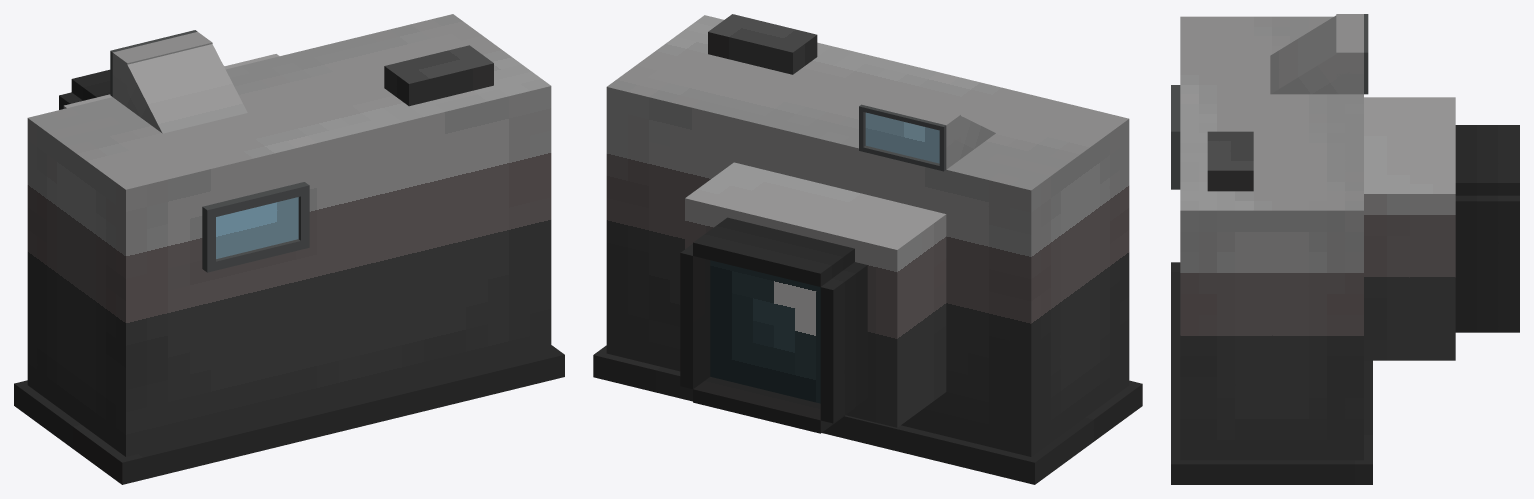
The model's file is simple_camera_model.glb.
3 renders of one model, left to right at view 1: azimuth 30°, elevation 25°; view 2: azimuth 150°, elevation 25°; view 3: azimuth 270°, elevation 25°, orthographic. The views are drawn at different scales.
Visible parts, largest first — view 1: cube_13, cube_14, cube_7, cube_0, cube_1, cube_6, cube_2, cube_3, cube_16, cube_4, cube_5; view 2: cube_13, cube_12, cube_20, cube_14, cube_19, cube_16, cube_0, cube_6, cube_18, cube_17, cube_7, cube_8 (+1 smaller); view 3: cube_13, cube_12, cube_18, cube_14, cube_16, cube_7, cube_0, cube_6, cube_5, cube_17, cube_2.
Boxes of the visible parts, x1,y1,x2,y2 form: cube_13: [27, 14, 551, 456]; cube_14: [14, 345, 564, 484]; cube_7: [114, 44, 247, 133]; cube_0: [384, 45, 493, 106]; cube_1: [216, 197, 298, 258]; cube_6: [112, 32, 212, 107]; cube_2: [211, 184, 300, 216]; cube_3: [216, 239, 300, 270]; cube_16: [71, 69, 110, 100]; cube_4: [202, 204, 215, 272]; cube_5: [296, 182, 309, 249]; cube_13: [606, 15, 1129, 456]; cube_12: [685, 162, 946, 427]; cube_20: [710, 260, 820, 403]; cube_14: [593, 345, 1142, 484]; cube_19: [820, 262, 867, 423]; cube_16: [693, 217, 854, 286]; cube_0: [708, 14, 817, 74]; cube_6: [862, 94, 960, 169]; cube_18: [680, 244, 710, 388]; cube_17: [693, 377, 854, 433]; cube_7: [947, 116, 995, 165]; cube_8: [859, 104, 946, 131]; cube_13: [1180, 16, 1363, 460]; cube_12: [1364, 97, 1455, 360]; cube_18: [1455, 195, 1519, 326]; cube_14: [1171, 262, 1372, 484]; cube_16: [1455, 125, 1519, 195]; cube_7: [1270, 15, 1361, 94]; cube_0: [1207, 131, 1253, 191]; cube_6: [1336, 14, 1363, 94]; cube_5: [1171, 127, 1180, 189]; cube_17: [1455, 326, 1519, 332]; cube_2: [1171, 89, 1180, 127].
Bounding box in the file's own units: 0.65 × 0.4688 × 0.475.
1 material, 1 textured.
